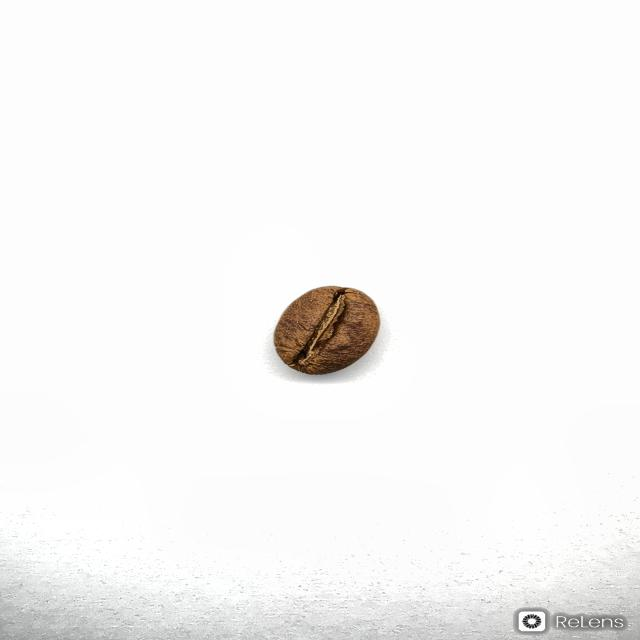Good bean: (272, 284, 381, 375)
